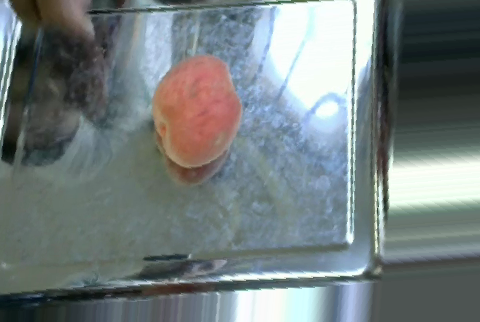Peach: (152, 53, 240, 167)
